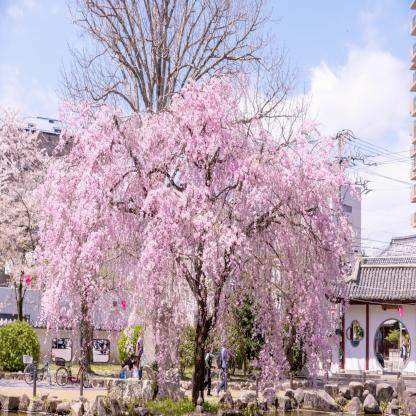ShidareZakura: (0, 66, 362, 403)
